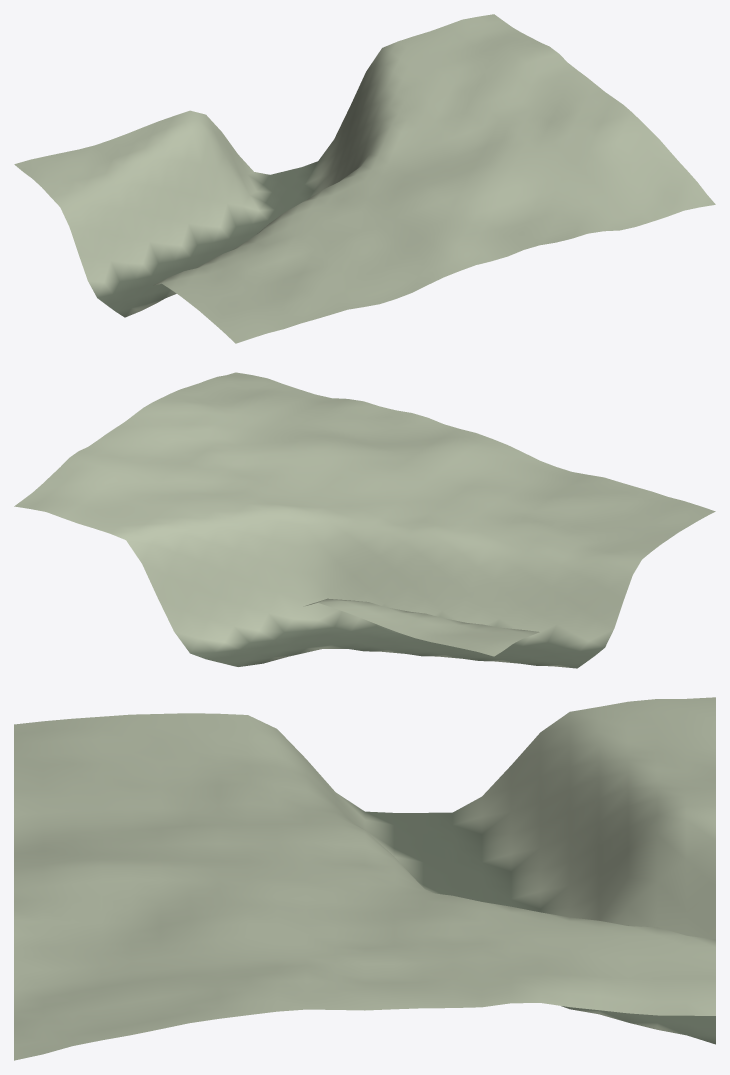
3 renders of one model, top to bottom at view 1: azimuth 30°, elevation 25°; view 2: azimuth 150°, elevation 25°; view 3: azimuth 270°, elevation 25°, orthographic. The views are drawn at different scales.
Parts seen in each view (by area): view 1: world-ground/90-120; view 2: world-ground/90-120; view 3: world-ground/90-120.
Boxes of the visible parts, x1,y1,x2,y2 form: world-ground/90-120: (14, 14, 715, 343); world-ground/90-120: (14, 372, 715, 668); world-ground/90-120: (14, 697, 715, 1060).
Bounding box in the file's own units: 37.5 × 8.53 × 30.
